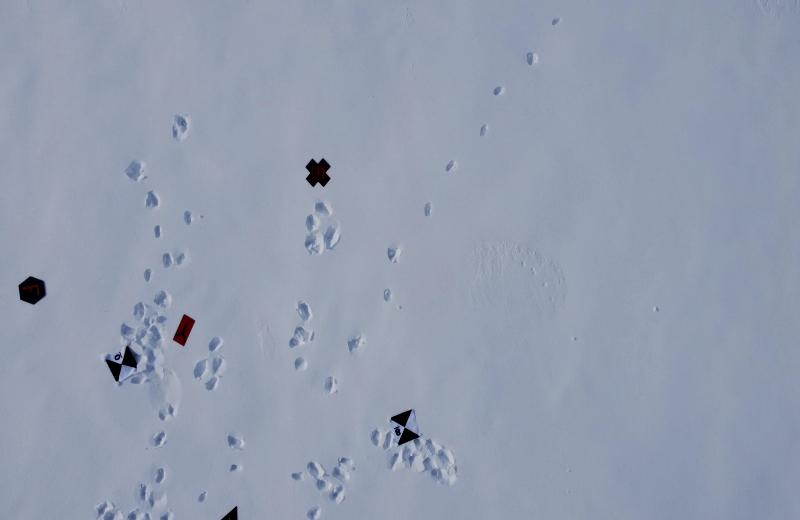Cross: (300, 153, 333, 194)
Hexagon: (14, 274, 48, 310)
Rectangle: (170, 309, 195, 349)
